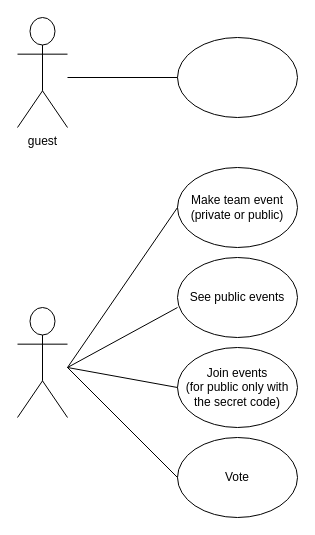
Some shapes in this 315 by 535 pixel diagram are drawn without their labels. Here are the shapes that lost their labels. From the top down, the centre of each, then its label:
At (237,77): "Register".
At (42,362): "User".
